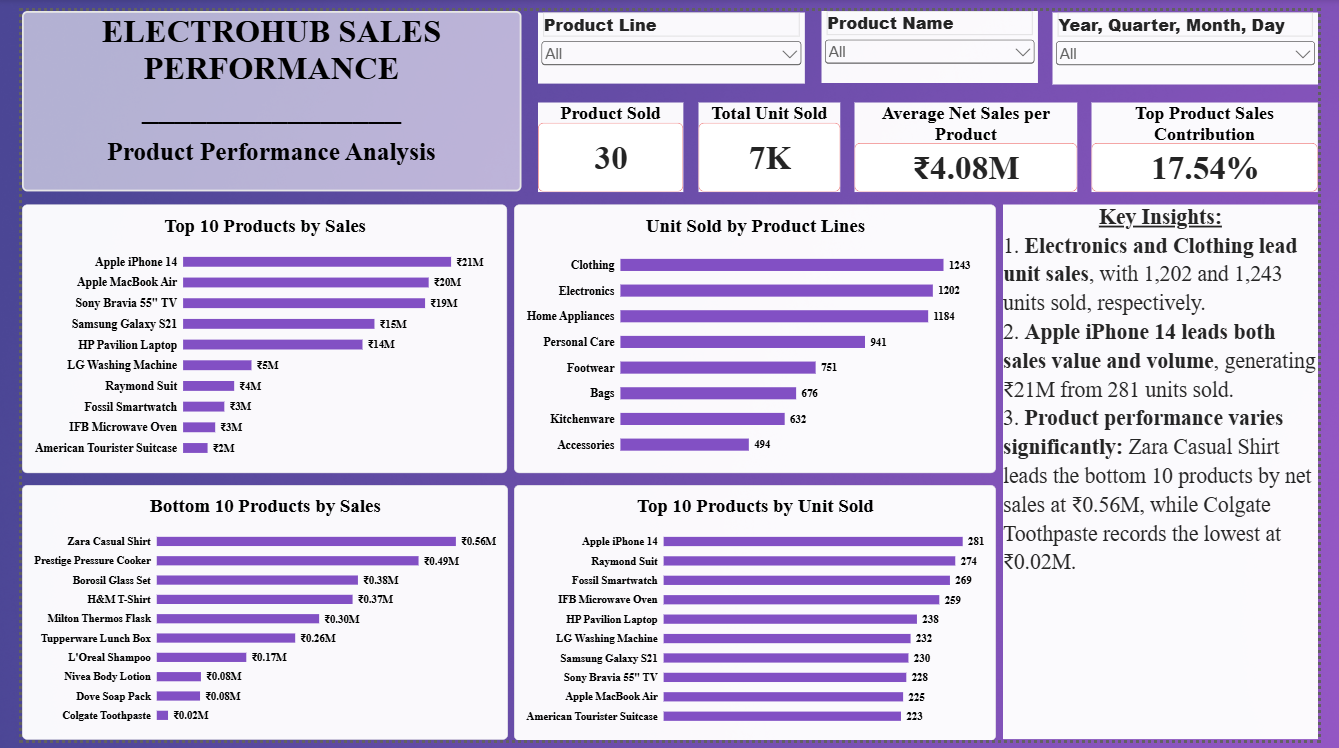

What the dashboard file says about the page in this screenshot:
{"tool":"powerbi","page":{"name":"Product Performace","canvas":[1920,1080],"ordinal":1},"visuals":[{"type":"clusteredBarChart","title":"Top 10 Products by Sales","fields":{"Category":["Dim Product.Product Name"],"Y":["Sum(FactSales.Net Sales)"]},"box":[0,286.6,718.9,398.3],"z":0},{"type":"clusteredBarChart","title":"Bottom 10 Products by Sales","fields":{"Category":["Dim Product.Product Name"],"Y":["Sum(FactSales.Net Sales)"]},"box":[0,702.5,720,377.5],"z":1000},{"type":"cardVisual","title":"Product Sold","fields":{"Data":["Measure Table.Product Sold"]},"box":[765,135,215,132.5],"z":2000},{"type":"cardVisual","title":"Average Net Sales per Product","fields":{"Data":["Measure Table.Avg NS per Product"]},"box":[1233.3,135,330,132.5],"z":3000},{"type":"barChart","title":"Unit Sold by Product Lines","fields":{"Category":["Dim Product.Product Line"],"Y":["Sum(FactSales.Units Sold)"]},"box":[728.7,286.6,714.1,398.3],"z":4000},{"type":"cardVisual","title":"Total Unit Sold","fields":{"Data":["Measure Table.Total Unit Sold"]},"box":[1001.7,135,210,132.5],"z":5000},{"type":"cardVisual","title":"Top Product Sales Contribution","fields":{"Data":["Measure Table.Top Product Contribution %"]},"box":[1585,135,335,132.5],"z":6000},{"type":"clusteredBarChart","title":"Top 10 Products by Unit Sold","fields":{"Category":["Dim Product.Product Name"],"Y":["Sum(FactSales.Units Sold)"]},"box":[728.7,701.9,714.1,378.9],"z":7000},{"type":"textbox","box":[0,0,740,267.5],"z":8000},{"type":"slicer","title":"City","fields":{"Values":["Dim Product.Product Name"]},"box":[1183.6,0,320.6,106.9],"z":9000},{"type":"slicer","title":"City","fields":{"Values":["FactSales.Date (dd/mm/yyyy).Variation.Date Hierarchy.Year","FactSales.Date (dd/mm/yyyy).Variation.Date Hierarchy.Quarter","FactSales.Date (dd/mm/yyyy).Variation.Date Hierarchy.Month","FactSales.Date (dd/mm/yyyy).Variation.Date Hierarchy.Day"]},"box":[1526.5,2.4,393.5,106.9],"z":10000},{"type":"slicer","title":"City","fields":{"Values":["Dim Product.Product Line"]},"box":[765,2.5,395,105],"z":11000},{"type":"textbox","box":[1452.4,286.6,466.3,791.8],"z":12000}]}

Visuals, with their boxes in screenshot pixels (x1, y1, x2, y2), scaled from the page's 1920x1080 canvas onto the 1339x748 screenshot:
"Top 10 Products by Sales" clusteredBarChart: (0, 198, 501, 474)
"Bottom 10 Products by Sales" clusteredBarChart: (0, 487, 502, 747)
"Product Sold" cardVisual: (534, 93, 683, 185)
"Average Net Sales per Product" cardVisual: (860, 93, 1090, 185)
"Unit Sold by Product Lines" barChart: (508, 198, 1006, 474)
"Total Unit Sold" cardVisual: (699, 93, 845, 185)
"Top Product Sales Contribution" cardVisual: (1105, 93, 1338, 185)
"Top 10 Products by Unit Sold" clusteredBarChart: (508, 486, 1006, 747)
textbox: (0, 0, 516, 185)
"City" slicer: (825, 0, 1049, 74)
"City" slicer: (1065, 2, 1338, 76)
"City" slicer: (534, 2, 809, 74)
textbox: (1013, 198, 1338, 747)
